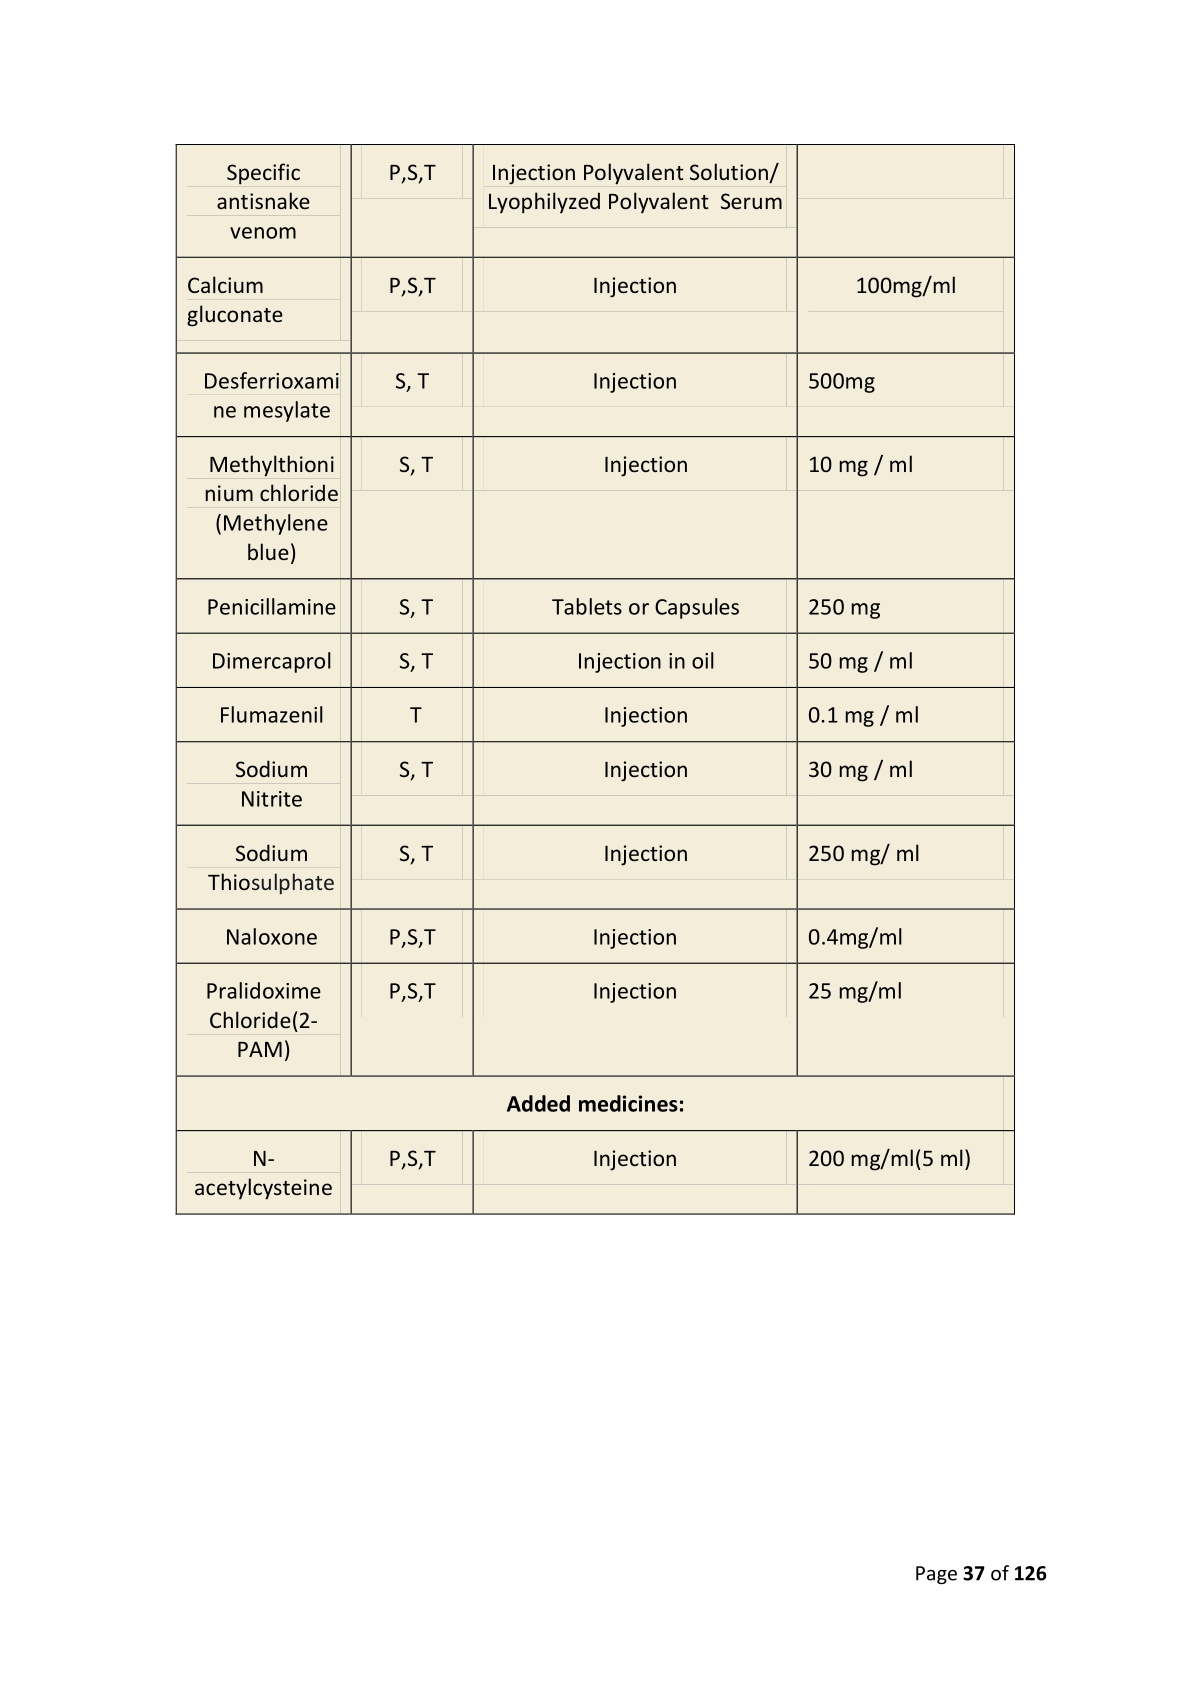merged_cells: (173, 140, 1017, 1216)
